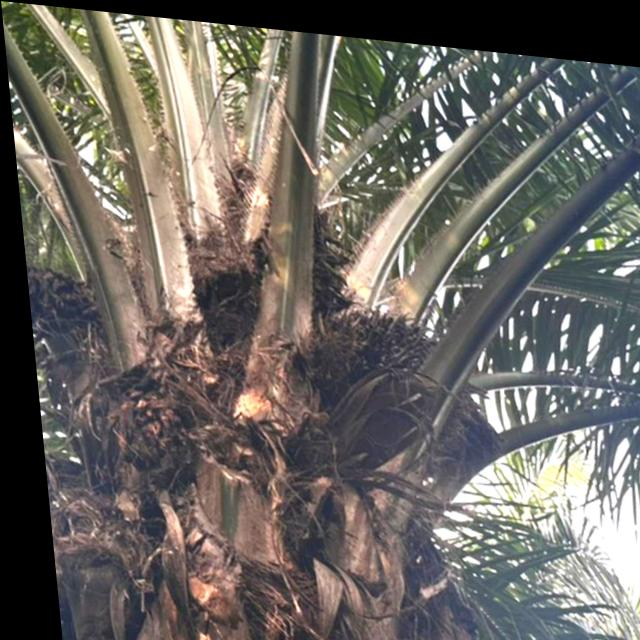almost: (305, 291, 447, 434)
